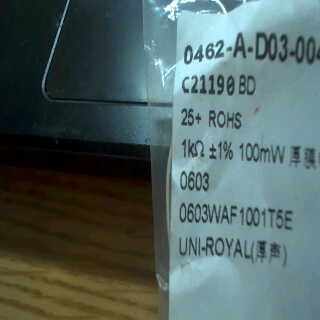1kR: (180, 136, 207, 159)
